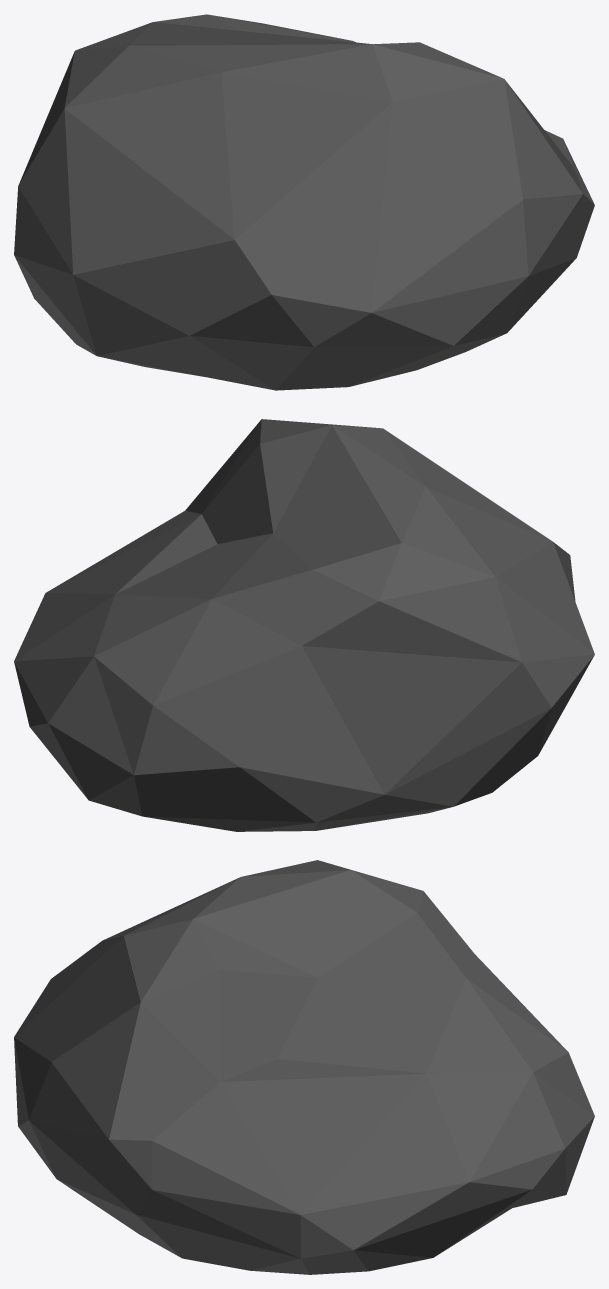
The model's file is small rock.fbx.
3 renders of one model, top to bottom at view 1: azimuth 30°, elevation 25°; view 2: azimuth 150°, elevation 25°; view 3: azimuth 270°, elevation 25°, orthographic. The views are drawn at different scales.
Visible parts, largest first — view 1: rock small_LOD0; view 2: rock small_LOD0; view 3: rock small_LOD0.
Part boxes in pixels (x1=…): rock small_LOD0: x1=14, y1=14, x2=594, y2=390; rock small_LOD0: x1=14, y1=419, x2=594, y2=831; rock small_LOD0: x1=14, y1=860, x2=594, y2=1274.
Size of what is drawn, in the model's own units: 3.08 by 1.59 by 3.06.
